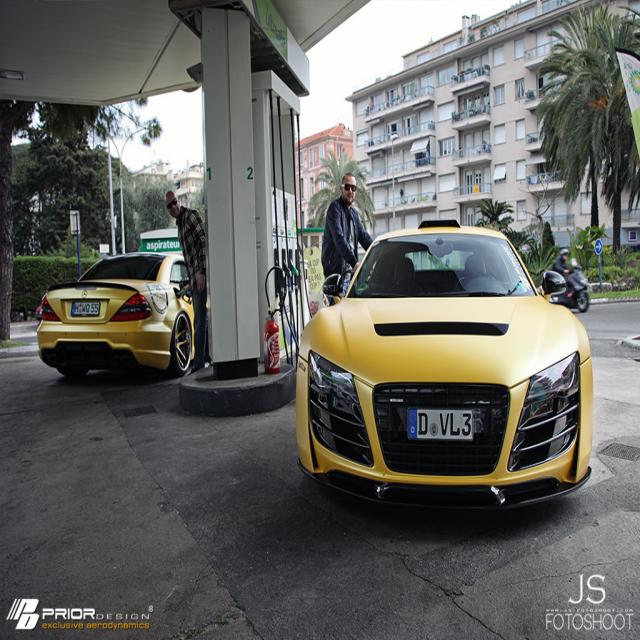car: (288, 225, 600, 515)
